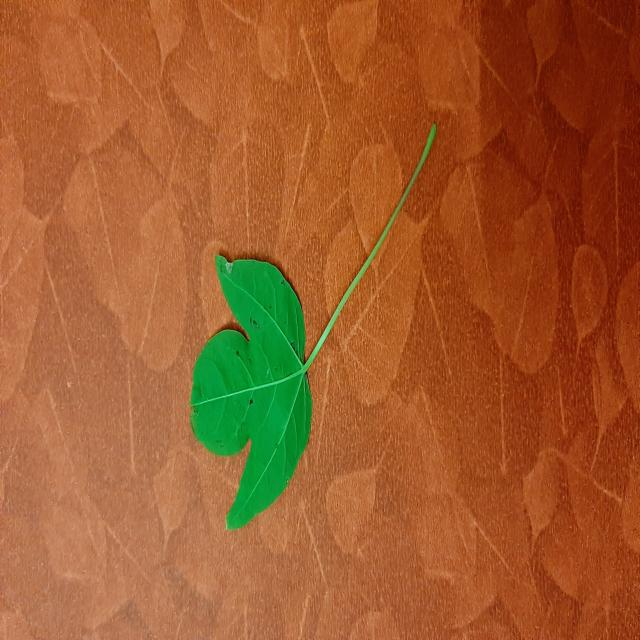papaya: (191, 255, 349, 528)
